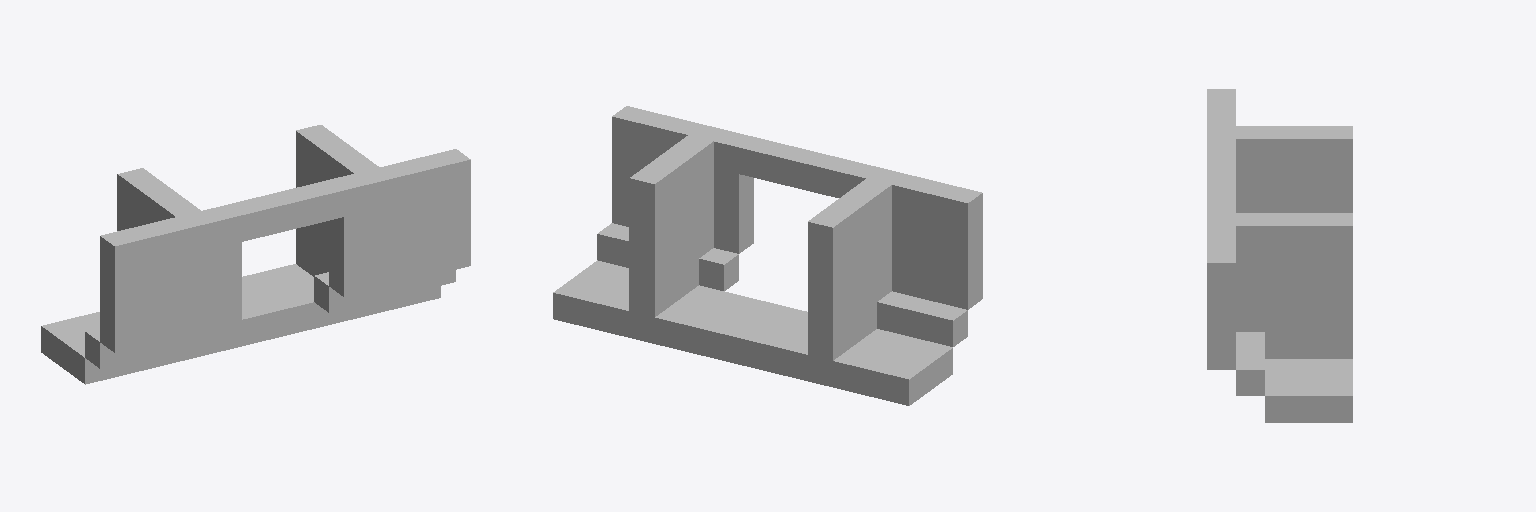
File: environ-rail3.obj
3 views of the same model, side by side, from view 1: azimuth 30°, elevation 25°; view 2: azimuth 150°, elevation 25°; view 3: azimuth 270°, elevation 25° (orthographic).
Parts seen in each view (by area): view 1: rail3; view 2: rail3; view 3: rail3.
Boxes of the visible parts, x1,y1,x2,y2 form: rail3: [41, 125, 470, 384]; rail3: [553, 106, 982, 405]; rail3: [1207, 89, 1352, 422].
Bounding box in the file's own units: 1.4 × 0.6 × 0.5.